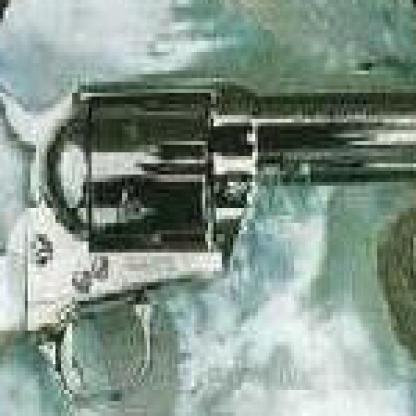gun: (0, 60, 413, 412)
